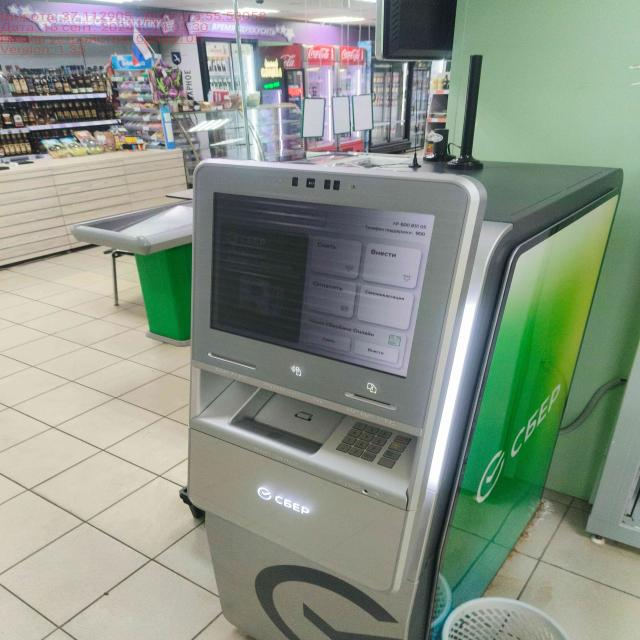bank: (172, 146, 622, 640)
